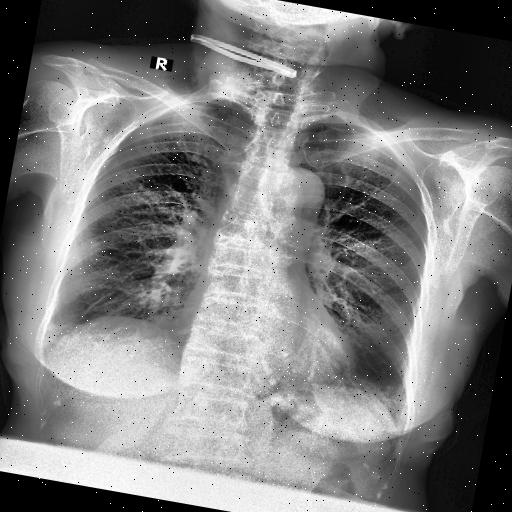0- Aortic enlargement: (265, 158, 329, 224), (264, 164, 326, 218), (272, 165, 326, 221)
